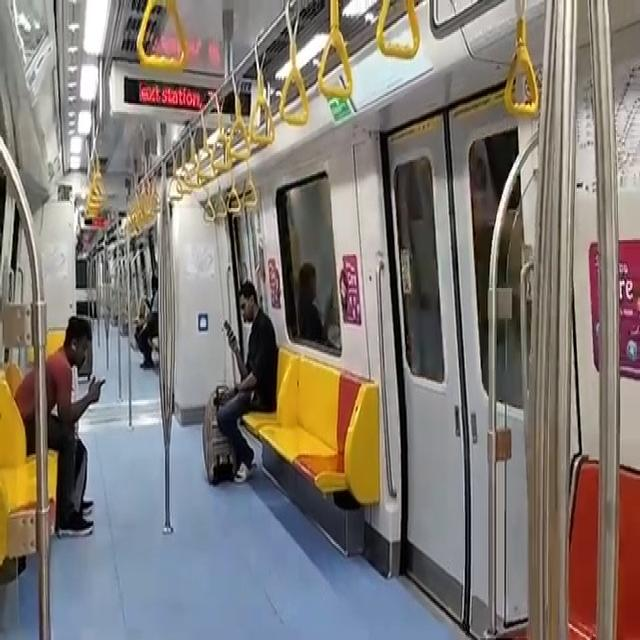bus-door: (373, 99, 530, 640)
